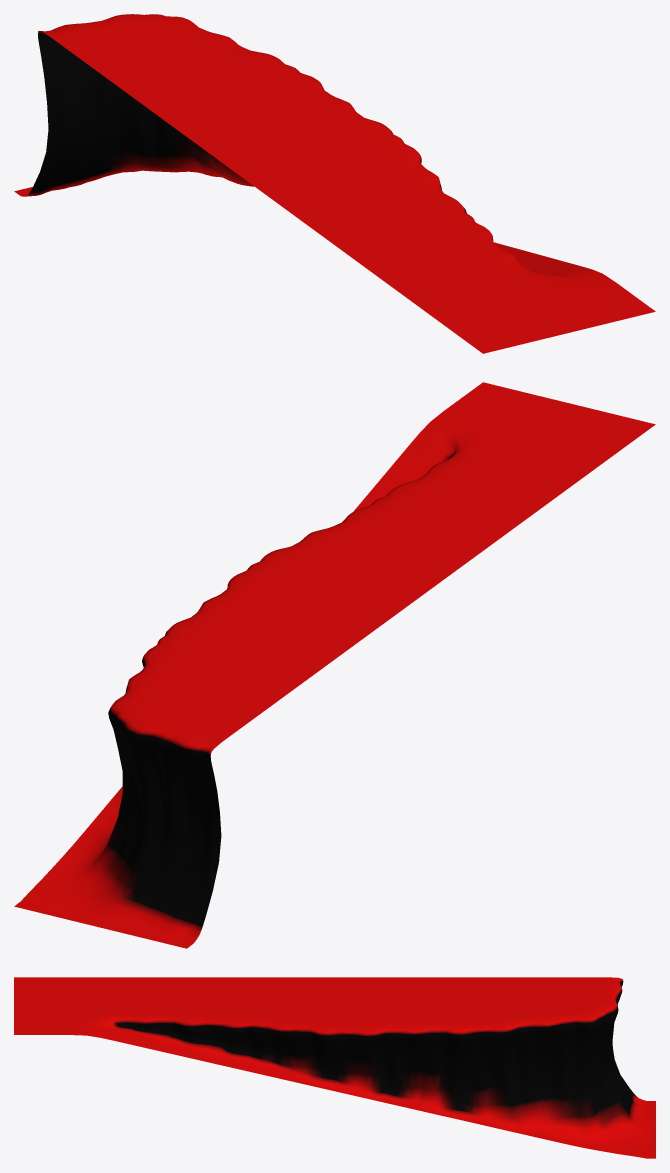
Rendered from ClimbCliff01A 2M Foreground.fbx.
3 renders of one model, top to bottom at view 1: azimuth 30°, elevation 25°; view 2: azimuth 150°, elevation 25°; view 3: azimuth 270°, elevation 25°, orthographic. The views are drawn at different scales.
Visible parts, largest first — view 1: ClimbCliff01A 2M Foreground; view 2: ClimbCliff01A 2M Foreground; view 3: ClimbCliff01A 2M Foreground.
Boxes of the visible parts, x1=… form: ClimbCliff01A 2M Foreground: x1=14, y1=14, x2=655, y2=353; ClimbCliff01A 2M Foreground: x1=14, y1=382, x2=655, y2=948; ClimbCliff01A 2M Foreground: x1=14, y1=977, x2=655, y2=1158.
Bounding box in the file's own units: 2 × 2 × 9.4.
